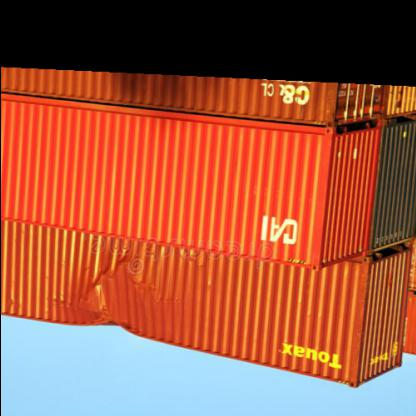Damage: (86, 267, 146, 335)
